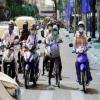motorcycles: (75, 44, 91, 86), (22, 48, 41, 83), (2, 42, 16, 77)
